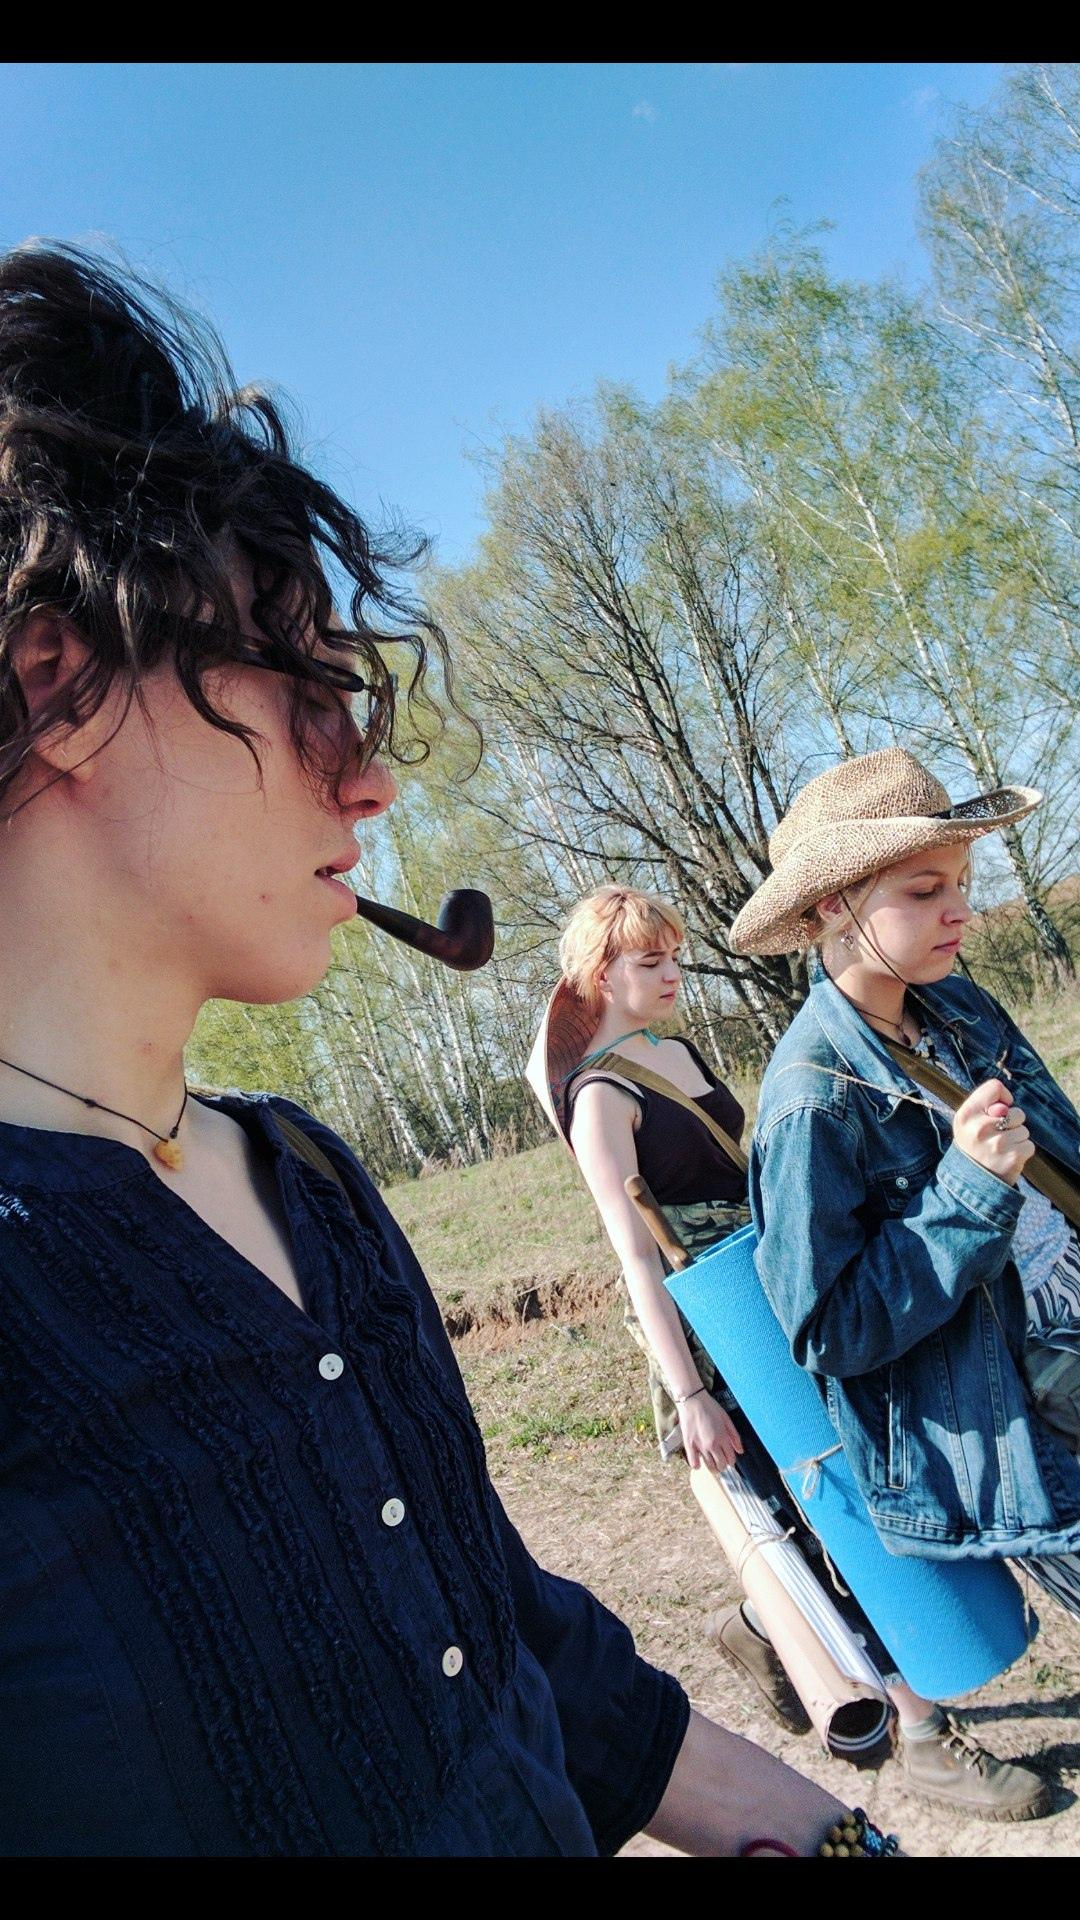trubka: (357, 889, 495, 971)
